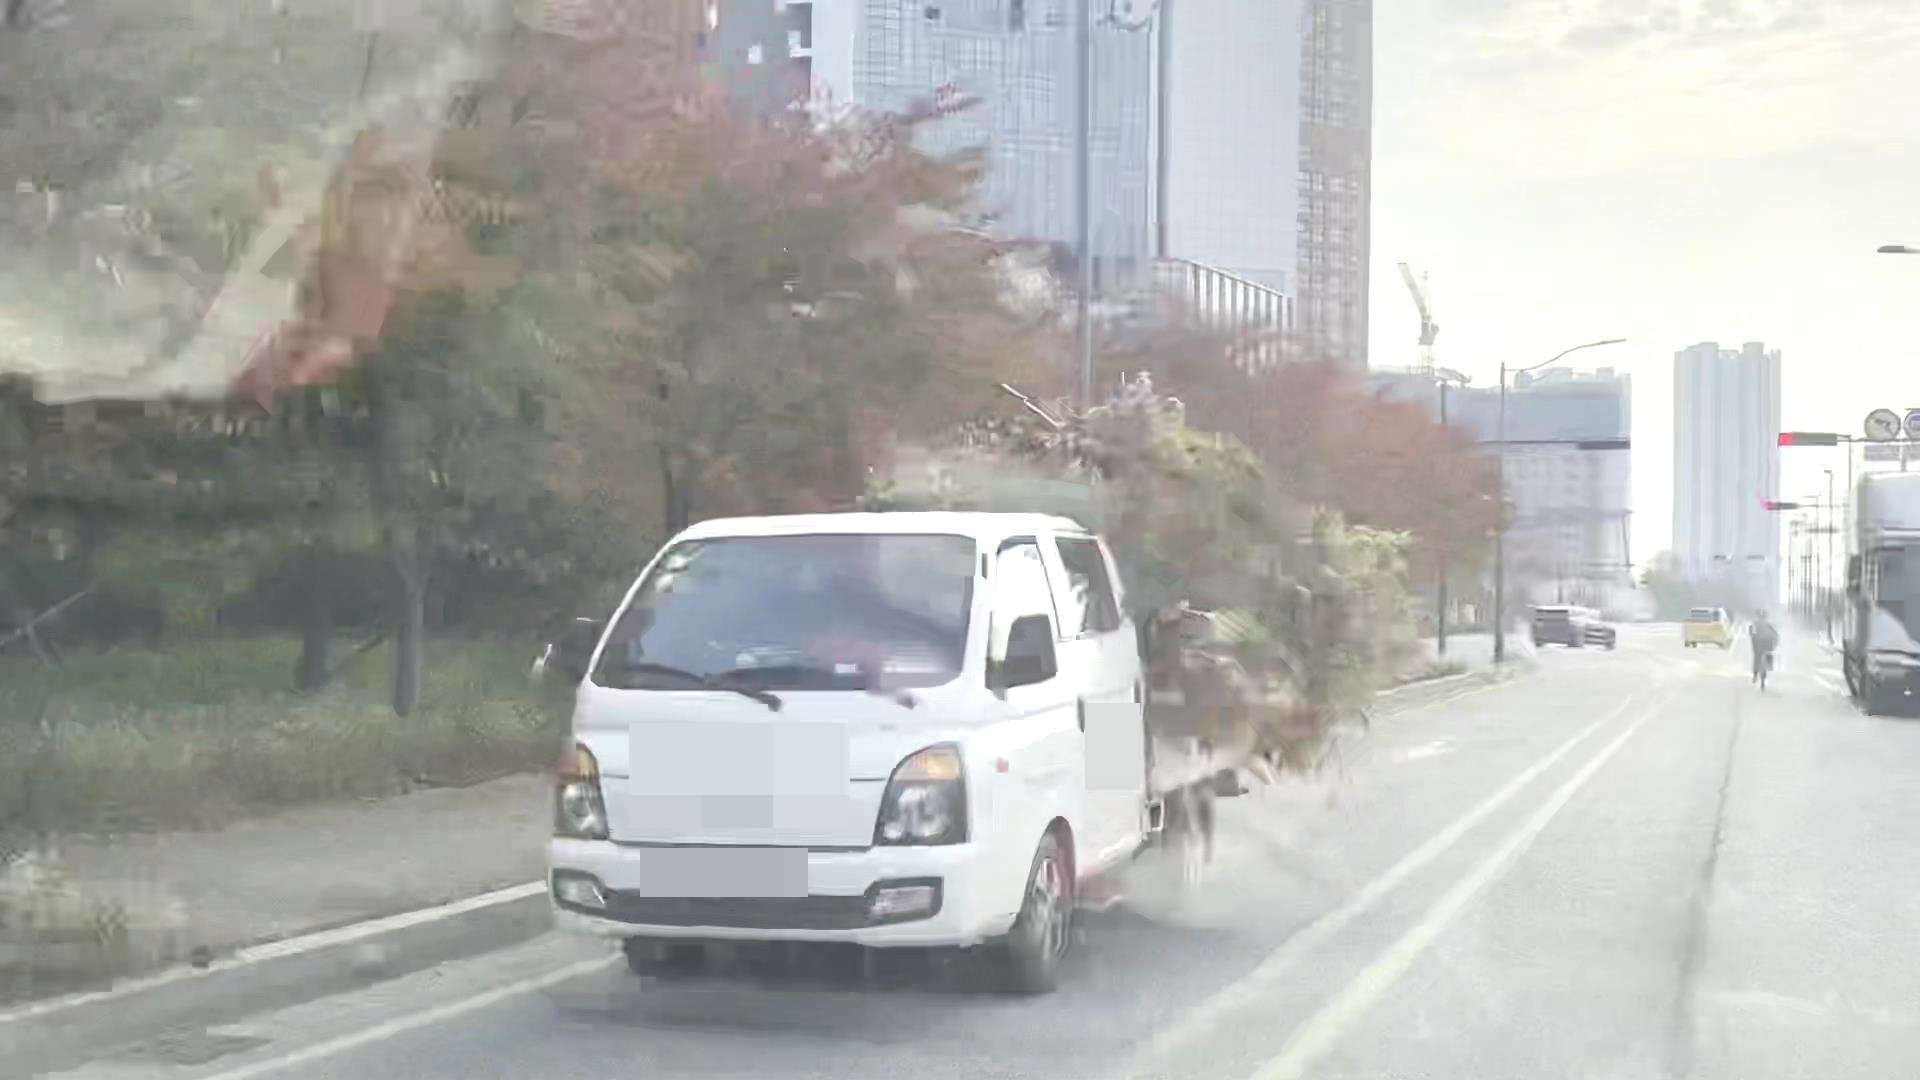불법차량: (546, 373, 1415, 994)
